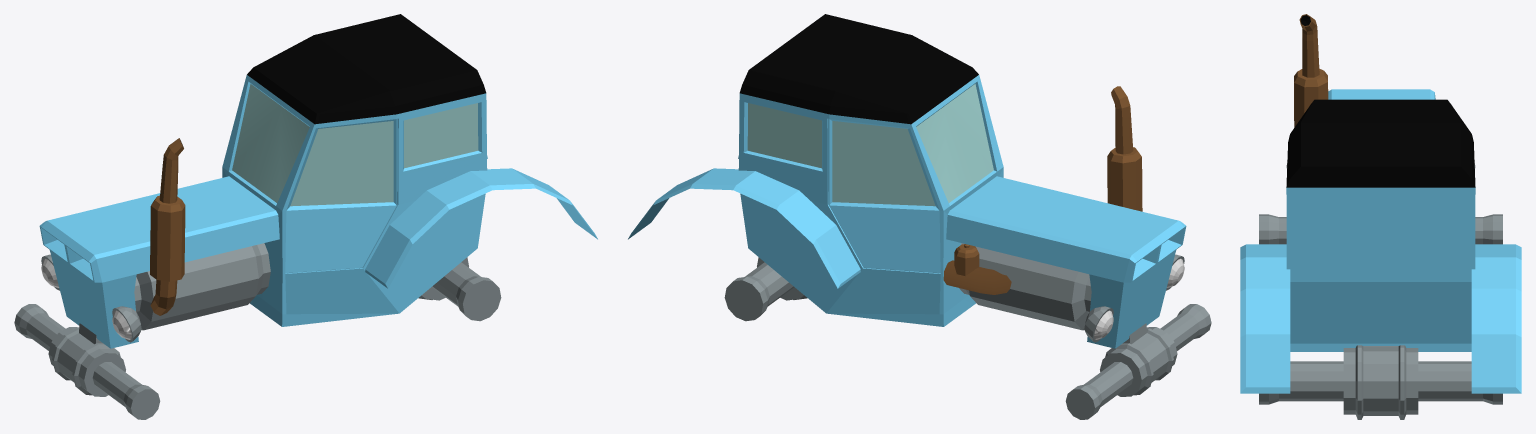
File: body.fbx
3 views of the same model, side by side, from view 1: azimuth 30°, elevation 25°; view 2: azimuth 150°, elevation 25°; view 3: azimuth 270°, elevation 25° (orthographic). The views are drawn at different scales.
Visible parts, largest first — view 1: T40; view 2: T40; view 3: T40.
Boxes of the visible parts, x1,y1,x2,y2 form: T40: (14, 14, 597, 419); T40: (628, 14, 1211, 419); T40: (1240, 14, 1521, 419).
Size of the model in its own units: 516 by 275 by 256.
